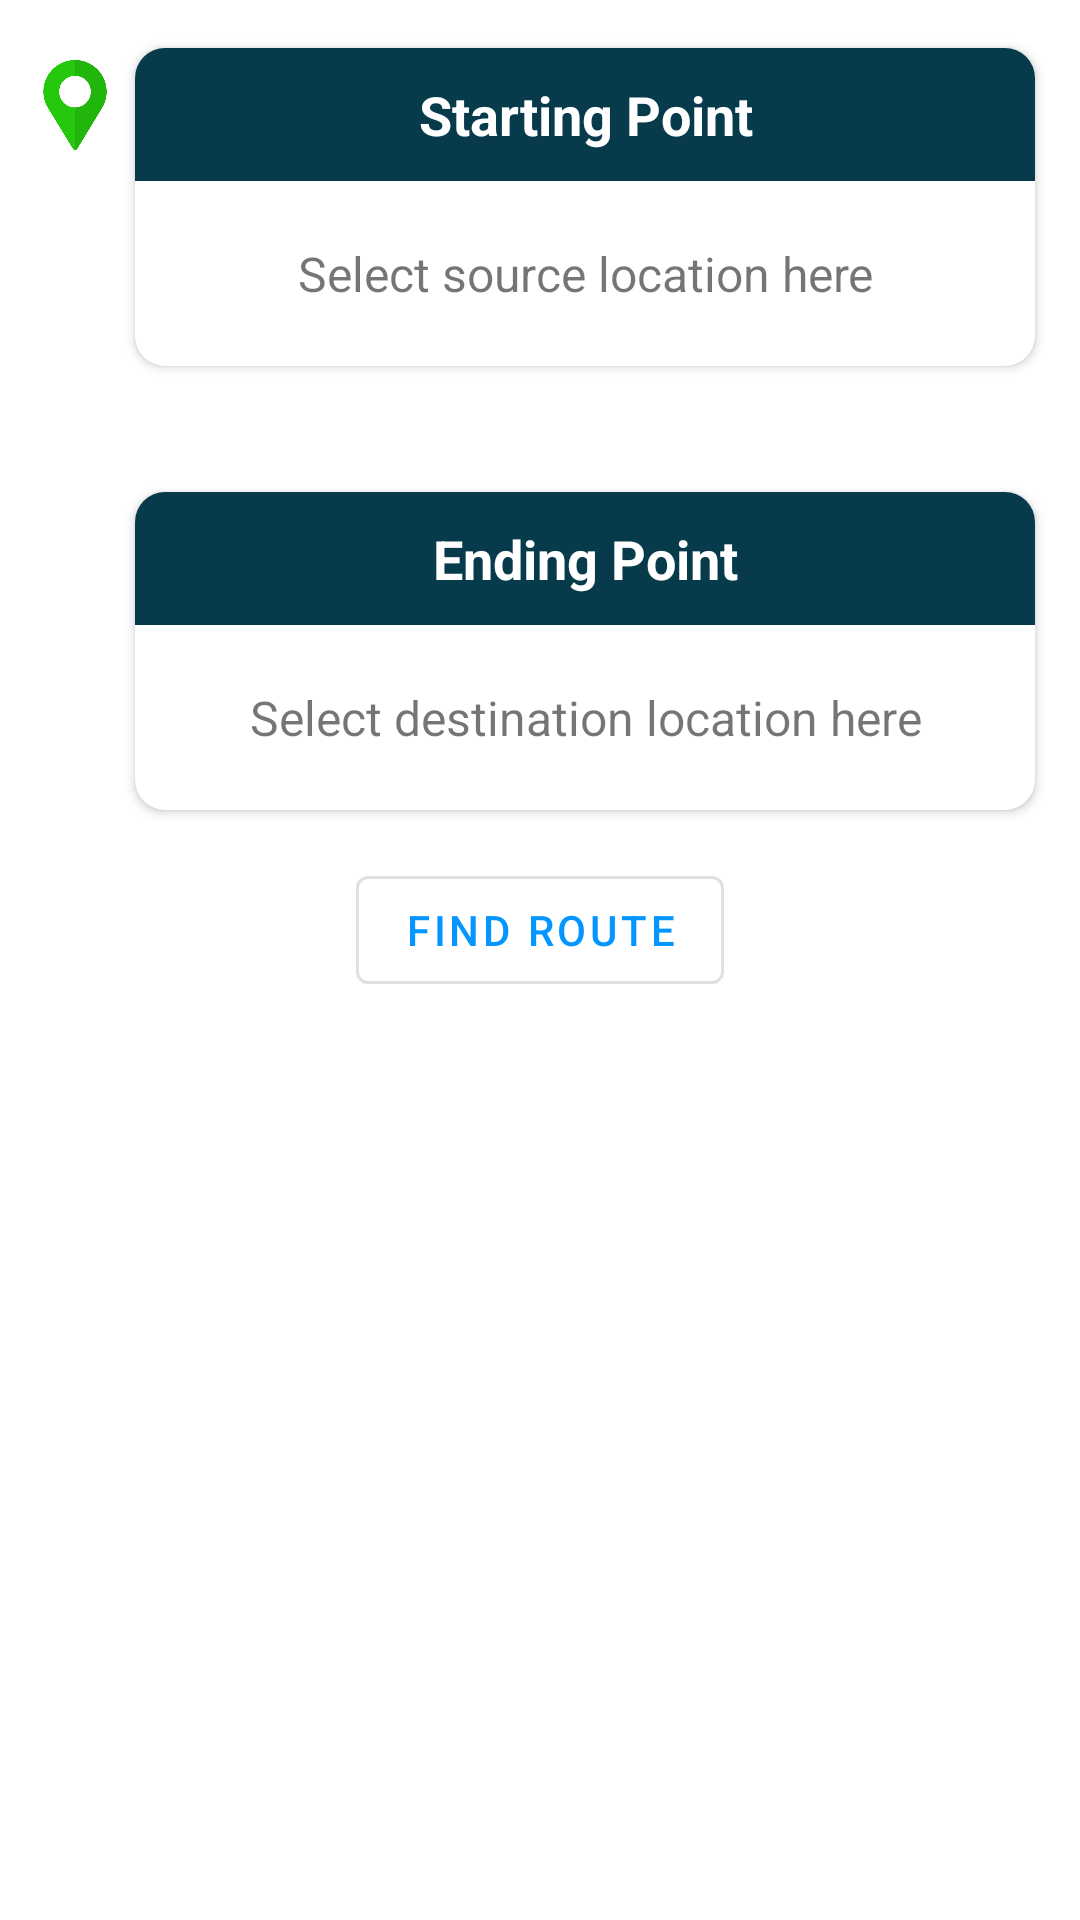

Icon click points for this 1080px×1920px phone screenshot, format point (x, y):
pin: point (75, 105)
